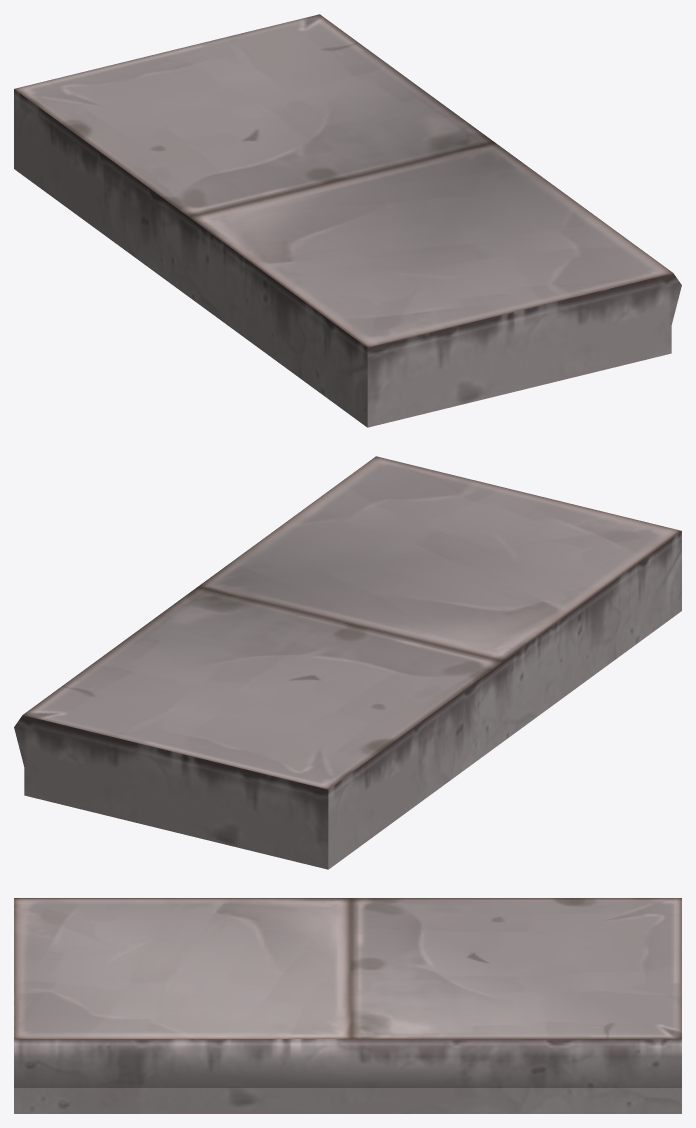
The model's file is sm_calcada_01.fbx.
The picture shows the model from 3 angles, top to bottom: view 1: azimuth 30°, elevation 25°; view 2: azimuth 150°, elevation 25°; view 3: azimuth 270°, elevation 25°; orthographic projection. The views are drawn at different scales.
Parts seen in each view (by area): view 1: sm_calcada_01; view 2: sm_calcada_01; view 3: sm_calcada_01.
Part boxes in pixels (x1=…): sm_calcada_01: x1=14, y1=14, x2=681, y2=427; sm_calcada_01: x1=14, y1=456, x2=681, y2=869; sm_calcada_01: x1=14, y1=898, x2=681, y2=1113.
Size of the model in its own units: 1.03 by 0.25 by 2.
